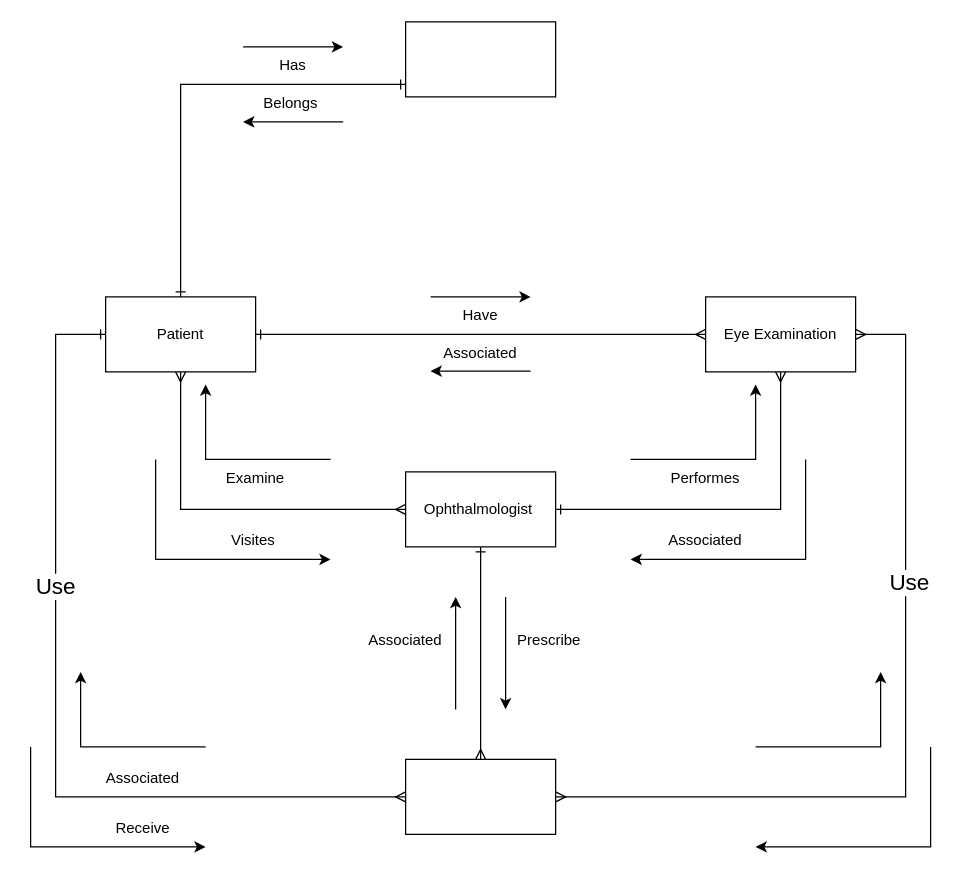
Some shapes in this 963 by 879 pixel diagram are drawn without their labels. The shapes that lost their labels are listed below. From the top down, each one's centre as x and y in pixels, then its label:
pixel 480 59: Emergency Contact
pixel 480 796: Treatment
